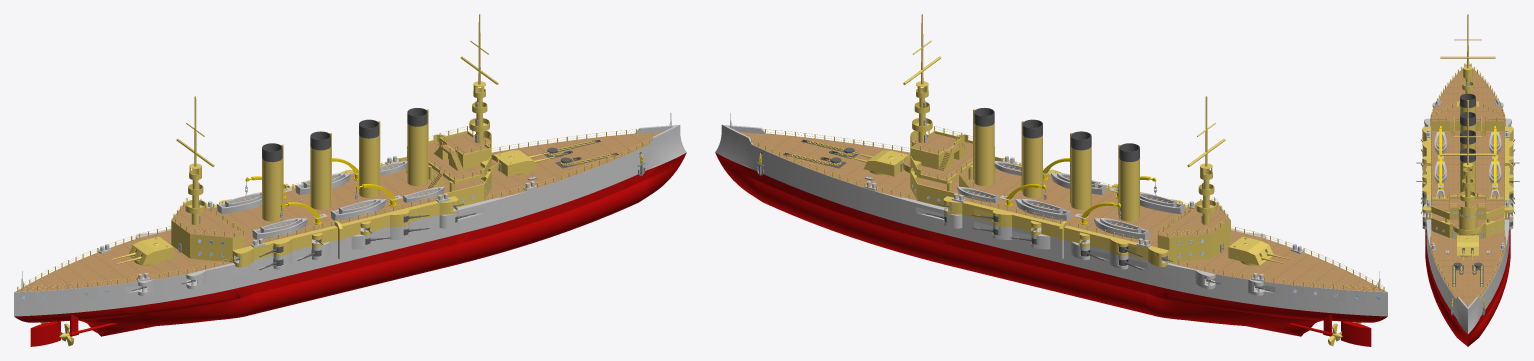
File: SteamShip.glb
The picture shows the model from 3 angles, left to right: view 1: azimuth 30°, elevation 25°; view 2: azimuth 150°, elevation 25°; view 3: azimuth 270°, elevation 25°; orthographic projection. The views are drawn at different scales.
Visible parts, largest first — view 1: Material2 (×9); view 2: Material2 (×9); view 3: Material2 (×11).
Boxes of the visible parts, box(x1,y1,x2,y2) form: Material2 (×9): box(14, 14, 686, 346); Material2 (×9): box(715, 14, 1387, 346); Material2 (×11): box(1416, 14, 1519, 346).
Bounding box in the file's own units: 5965 × 1913 × 1028.
13 materials, 1 textured.
